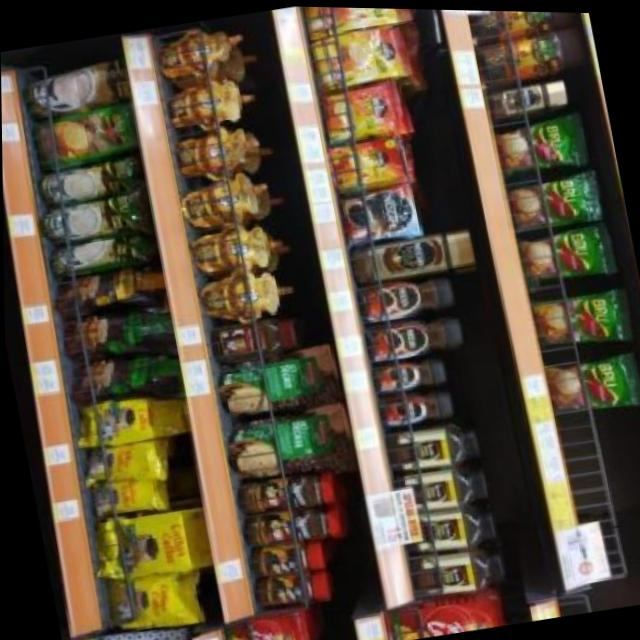Coffee: (348, 227, 473, 283), (307, 23, 403, 88), (353, 269, 454, 322), (360, 310, 461, 363), (316, 81, 400, 141), (336, 184, 419, 244), (374, 386, 453, 429), (483, 76, 566, 116), (367, 352, 444, 393), (305, 5, 404, 32)
